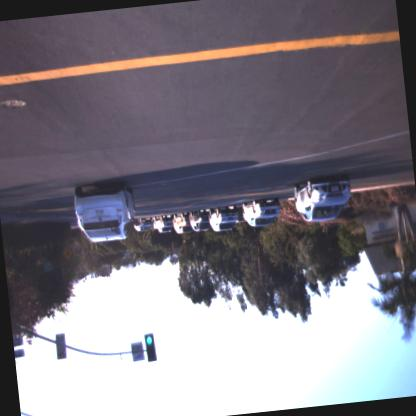trafficlight: (144, 328, 157, 360)
